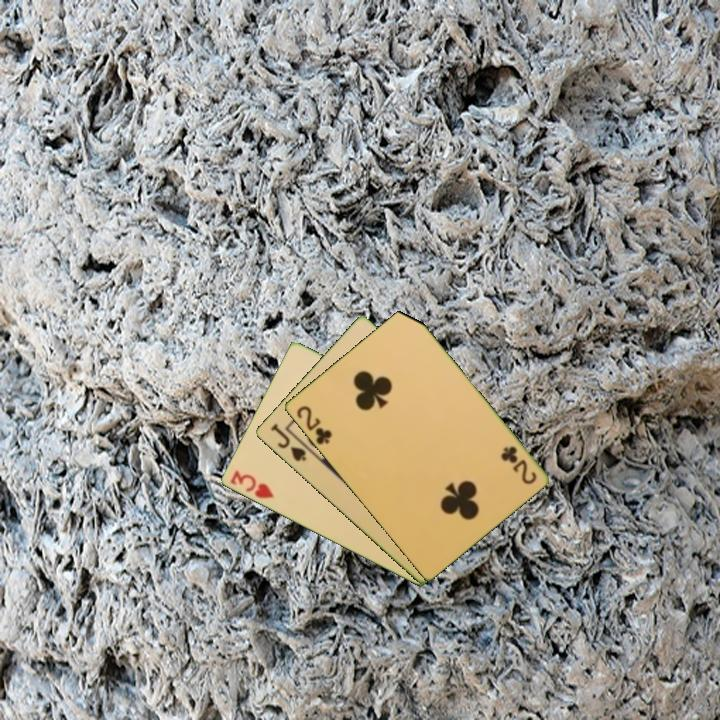2c: (293, 402, 335, 448), (497, 442, 539, 487)
3h: (226, 467, 276, 501)
Js: (267, 420, 309, 464)
